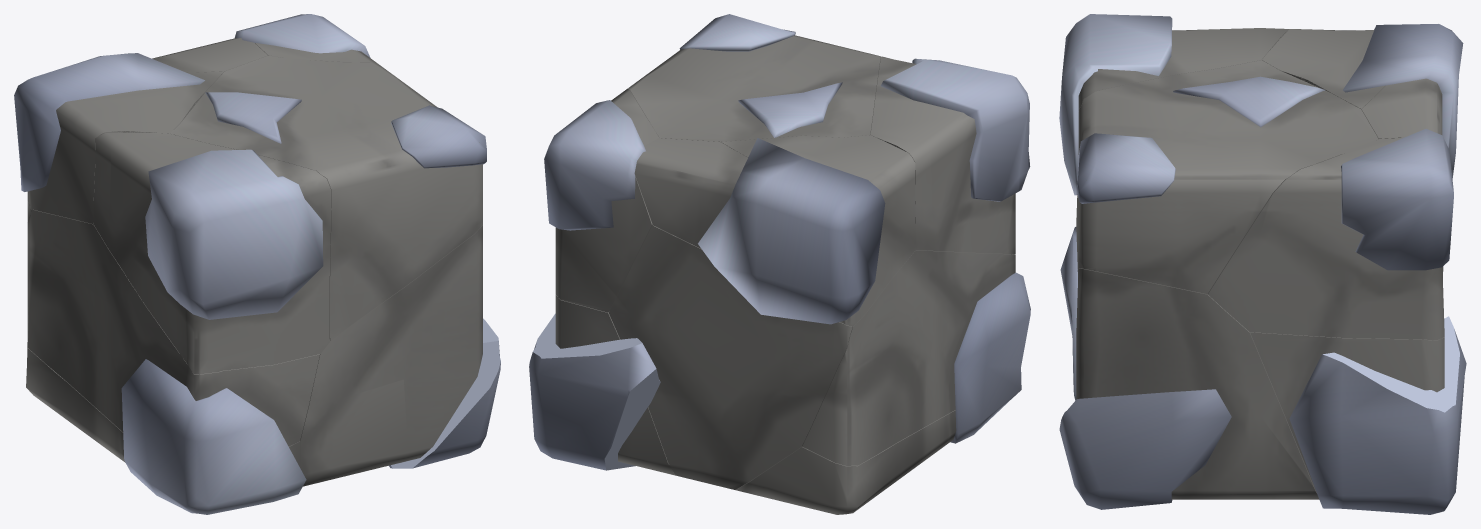
File: Silver.fbx
The picture shows the model from 3 angles, left to right: view 1: azimuth 30°, elevation 25°; view 2: azimuth 150°, elevation 25°; view 3: azimuth 270°, elevation 25°; orthographic projection. The views are drawn at different scales.
Parts seen in each view (by area): view 1: Cube_Parts.086, Cube_Parts.089, Cube_Parts.083, Ore.080, Cube_Parts.082, Ore.076, Cube_Parts.085, Ore.083, Ore.084, Ore.082, Cube_Parts.084, Ore.081 (+3 smaller); view 2: Cube_Parts.080, Ore.083, Cube_Parts.083, Cube_Parts.086, Ore.085, Cube_Parts.082, Ore.080, Ore.081, Cube_Parts.084, Ore.076, Cube_Parts.085, Cube_Parts.088 (+4 smaller); view 3: Cube_Parts.086, Cube_Parts.089, Cube_Parts.081, Ore.085, Ore.084, Ore.081, Cube_Parts.087, Ore.080, Ore.083, Ore.082, Cube_Parts.082, Cube_Parts.085 (+3 smaller).
Part boxes in pixels (left/top/right/bottom): Cube_Parts.086: left=170, top=55, right=482, bottom=340; Cube_Parts.089: left=299, top=225, right=482, bottom=486; Cube_Parts.083: left=27, top=209, right=319, bottom=446; Ore.080: left=145, top=149, right=323, bottom=319; Cube_Parts.082: left=93, top=131, right=331, bottom=374; Ore.076: left=121, top=359, right=306, bottom=514; Cube_Parts.085: left=27, top=71, right=223, bottom=224; Ore.083: left=14, top=53, right=204, bottom=191; Ore.084: left=389, top=318, right=500, bottom=468; Ore.082: left=391, top=105, right=486, bottom=168; Cube_Parts.084: left=26, top=342, right=299, bottom=466; Ore.081: left=234, top=14, right=370, bottom=57; Cube_Parts.080: left=609, top=225, right=852, bottom=489; Ore.083: left=698, top=138, right=885, bottom=324; Cube_Parts.083: left=802, top=250, right=1015, bottom=466; Cube_Parts.086: left=628, top=35, right=881, bottom=141; Ore.085: left=529, top=313, right=660, bottom=470; Cube_Parts.082: left=870, top=56, right=1015, bottom=254; Ore.080: left=881, top=58, right=1030, bottom=201; Ore.081: left=544, top=100, right=645, bottom=230; Cube_Parts.084: left=735, top=410, right=956, bottom=514; Ore.076: left=950, top=272, right=1030, bottom=443; Cube_Parts.085: left=721, top=135, right=915, bottom=326; Cube_Parts.088: left=634, top=138, right=843, bottom=323; Cube_Parts.086: left=1076, top=60, right=1378, bottom=294; Cube_Parts.089: left=1076, top=268, right=1319, bottom=499; Cube_Parts.081: left=1208, top=137, right=1444, bottom=340; Ore.085: left=1289, top=316, right=1466, bottom=514; Ore.084: left=1059, top=389, right=1231, bottom=509; Ore.081: left=1341, top=128, right=1453, bottom=270; Cube_Parts.087: left=1250, top=332, right=1444, bottom=491; Ore.080: left=1059, top=14, right=1172, bottom=195; Ore.083: left=1343, top=24, right=1463, bottom=178; Ore.082: left=1077, top=133, right=1175, bottom=203; Cube_Parts.082: left=1078, top=28, right=1288, bottom=110; Cube_Parts.085: left=1262, top=29, right=1385, bottom=109.
Bounding box in the file's own units: 224 × 216 × 224.
